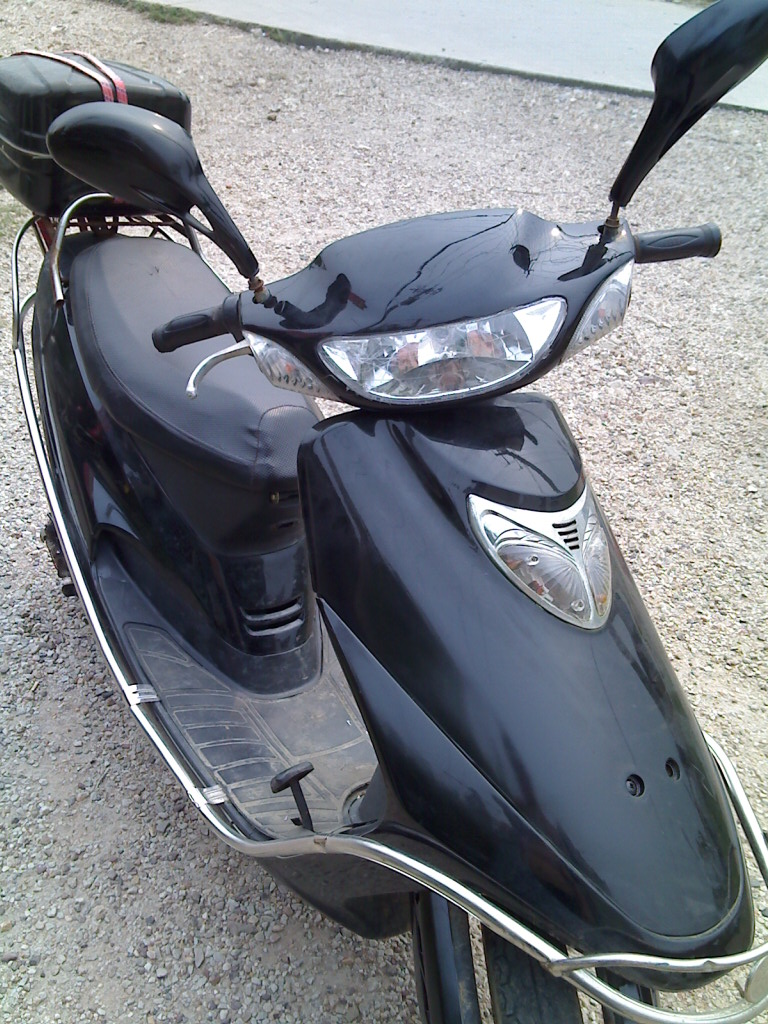电动车: (5, 6, 768, 1023)
